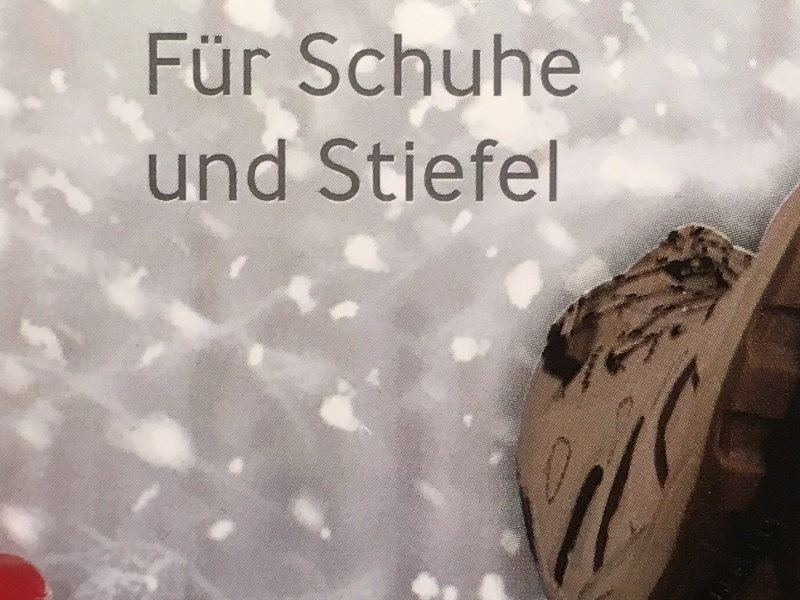text: (321, 134, 336, 208), (337, 134, 352, 208), (353, 134, 368, 208), (369, 134, 384, 208), (385, 134, 400, 208), (401, 134, 416, 208), (417, 134, 432, 208), (433, 134, 448, 208), (449, 134, 464, 208), (465, 134, 480, 208), (481, 134, 496, 208), (497, 134, 512, 208), (513, 134, 528, 208), (529, 134, 544, 208), (161, 31, 176, 99), (177, 31, 192, 99), (193, 31, 208, 99), (209, 31, 224, 99), (225, 31, 240, 99), (241, 31, 256, 99), (257, 31, 272, 99), (305, 32, 320, 99), (321, 32, 336, 99), (337, 32, 352, 99), (353, 32, 368, 99), (369, 32, 384, 99), (385, 32, 400, 99), (401, 32, 416, 99), (417, 32, 432, 99), (433, 32, 448, 99), (449, 32, 464, 99), (465, 32, 480, 99), (481, 32, 496, 99), (497, 32, 512, 99), (513, 32, 528, 99), (529, 32, 544, 99), (545, 32, 560, 99), (561, 32, 576, 99), (545, 134, 558, 208), (161, 139, 176, 203), (177, 139, 192, 203), (193, 139, 208, 203), (209, 139, 224, 203), (225, 139, 240, 203), (241, 139, 256, 203), (257, 139, 272, 203), (273, 139, 287, 203), (149, 31, 160, 99), (149, 139, 160, 203), (577, 32, 583, 99), (273, 31, 277, 99), (301, 32, 304, 99)
